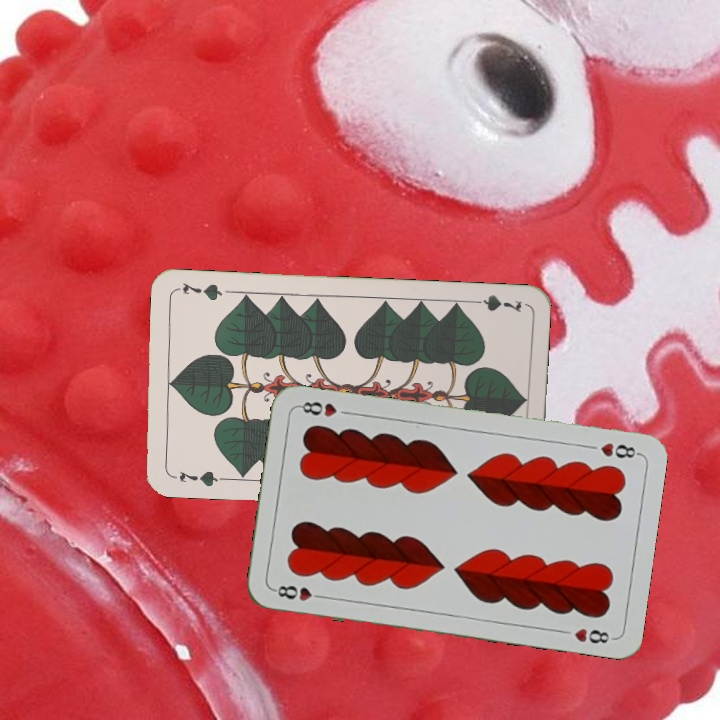G7: (466, 291, 525, 315), (175, 466, 227, 490)
H8: (270, 581, 329, 604), (597, 438, 642, 461)
